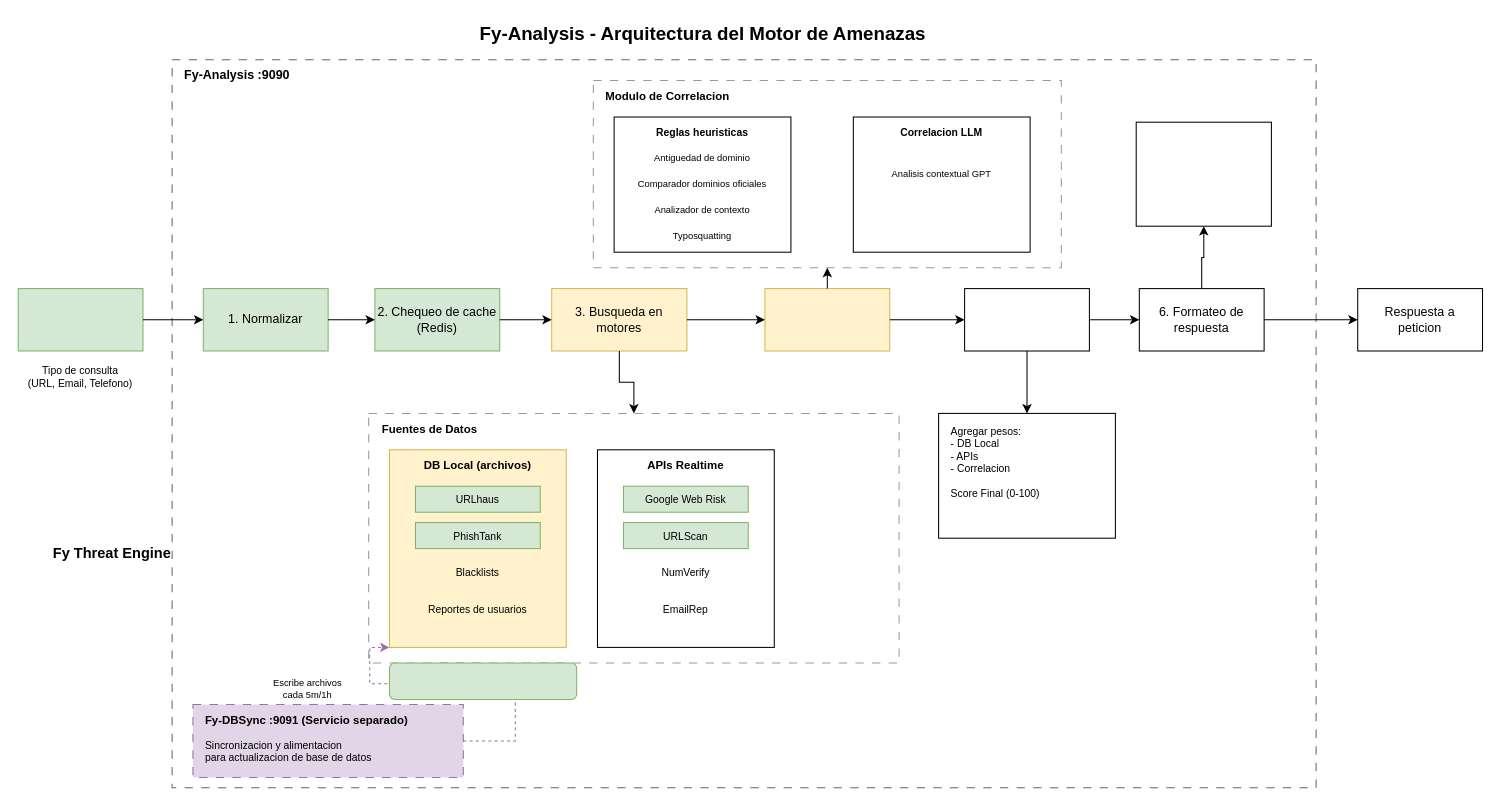
Some shapes in this 1501 by 806 pixel diagram are drawn without their labels. Each missing label, with the box of its shape:
4. Correlacion Logica: (764, 288, 890, 351)
5. Agregar resultados y calculo de score: (964, 288, 1089, 351)
Envio peticion: (17, 288, 143, 351)
risk_score risk_level Threats [] Reasons [] recommended_action: (1135, 121, 1271, 226)
Volumen compartido: /data (urlhaus.csv, phishtank.json): (388, 662, 577, 699)
